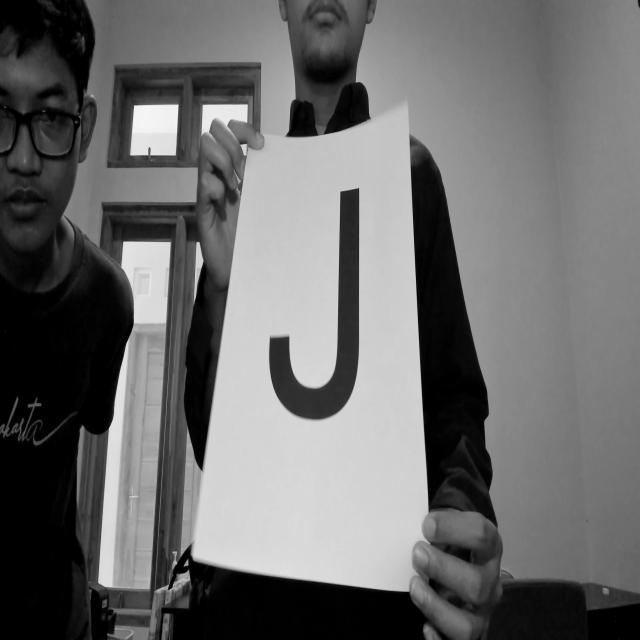j: (262, 175, 369, 443)
